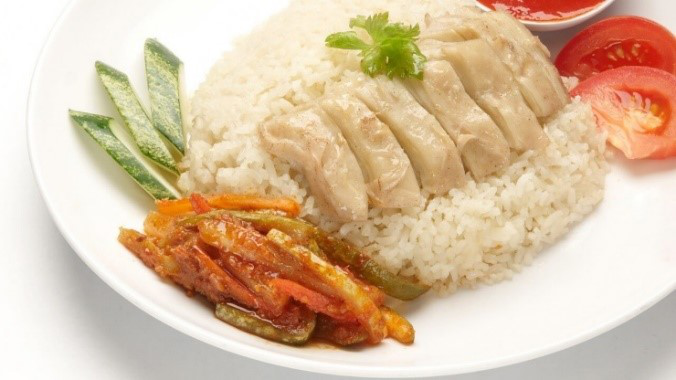Steamed Chicken Rice: (173, 0, 615, 286)
